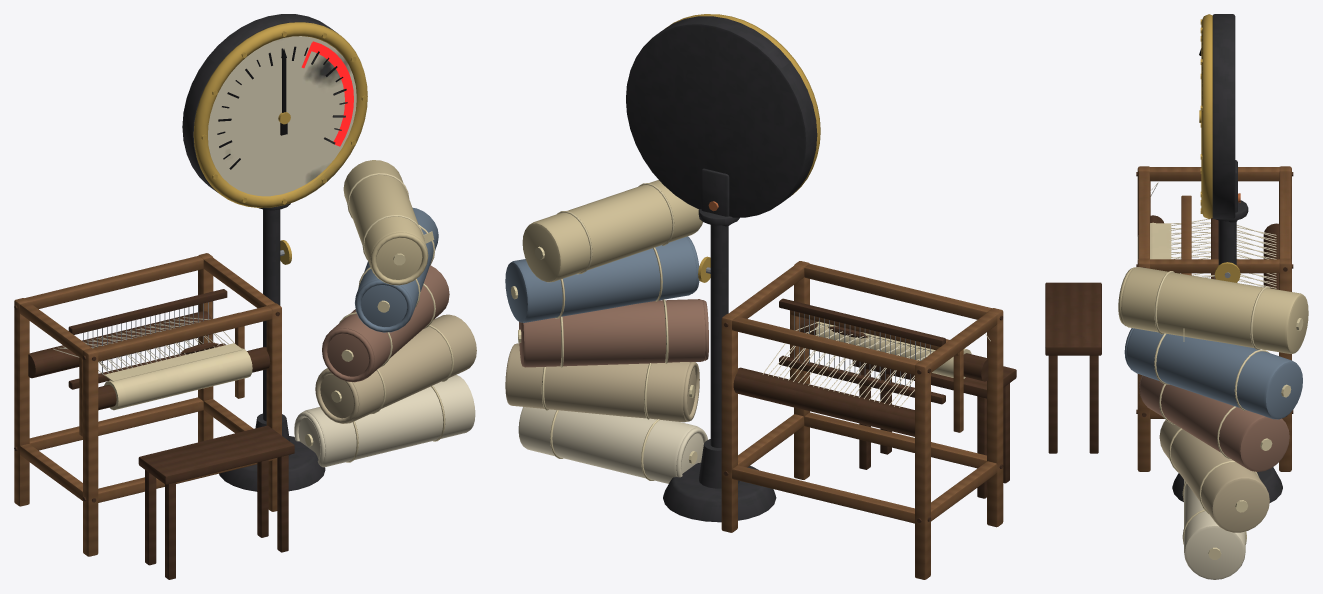
Rendered from demand_gauge.glb.
The picture shows the model from 3 angles, left to right: view 1: azimuth 30°, elevation 25°; view 2: azimuth 150°, elevation 25°; view 3: azimuth 270°, elevation 25°; orthographic projection. The views are drawn at different scales.
Parts seen in each view (by area): view 1: mrg_demand_gauge_wood, dialFace, mrg_demand_gauge_woodDark, mrg_bolt0_clothA, mrg_bolt1_clothB, mrg_dial_brass, mrg_bolt4_clothE, mrg_demand_gauge_canvas, mrg_bolt2_clothC, mrg_demand_gauge_iron, mrg_bolt3_clothD, dialCase (+4 smaller); view 2: mrg_demand_gauge_wood, dialCase, mrg_demand_gauge_woodDark, mrg_bolt2_clothC, mrg_bolt4_clothE, mrg_bolt1_clothB, mrg_bolt0_clothA, mrg_demand_gauge_iron, mrg_bolt3_clothD, mrg_demand_gauge_cloth, mrg_demand_gauge_canvas, mrg_demand_gauge_steel (+1 smaller); view 3: mrg_bolt4_clothE, mrg_bolt3_clothD, mrg_demand_gauge_wood, mrg_demand_gauge_woodDark, mrg_bolt2_clothC, mrg_bolt1_clothB, dialCase, mrg_bolt0_clothA, mrg_dial_brass, mrg_demand_gauge_iron, mrg_demand_gauge_cloth, mrg_demand_gauge_canvas (+3 smaller).
Part boxes in pixels (x1=…): mrg_demand_gauge_wood: x1=14, y1=253, x2=281, y2=556; dialFace: x1=208, y1=36, x2=356, y2=196; mrg_demand_gauge_woodDark: x1=14, y1=289, x2=294, y2=579; mrg_bolt0_clothA: x1=294, y1=375, x2=475, y2=467; mrg_bolt1_clothB: x1=315, y1=314, x2=476, y2=423; mrg_dial_brass: x1=193, y1=22, x2=367, y2=207; mrg_bolt4_clothE: x1=343, y1=160, x2=428, y2=285; mrg_demand_gauge_canvas: x1=104, y1=343, x2=252, y2=410; mrg_bolt2_clothC: x1=322, y1=265, x2=449, y2=382; mrg_demand_gauge_iron: x1=219, y1=203, x2=325, y2=491; mrg_bolt3_clothD: x1=355, y1=207, x2=438, y2=332; dialCase: x1=182, y1=14, x2=337, y2=192; mrg_demand_gauge_wood: x1=721, y1=261, x2=1003, y2=579; dialCase: x1=626, y1=16, x2=817, y2=217; mrg_demand_gauge_woodDark: x1=723, y1=298, x2=1016, y2=522; mrg_bolt2_clothC: x1=519, y1=299, x2=708, y2=367; mrg_bolt4_clothE: x1=522, y1=180, x2=702, y2=282; mrg_bolt1_clothB: x1=505, y1=343, x2=699, y2=422; mrg_bolt0_clothA: x1=518, y1=407, x2=707, y2=483; mrg_demand_gauge_iron: x1=663, y1=168, x2=776, y2=522; mrg_bolt3_clothD: x1=505, y1=236, x2=699, y2=322; mrg_demand_gauge_cloth: x1=762, y1=322, x2=990, y2=407; mrg_demand_gauge_canvas: x1=816, y1=321, x2=971, y2=378; mrg_demand_gauge_steel: x1=706, y1=267, x2=930, y2=388; mrg_bolt4_clothE: x1=1118, y1=267, x2=1308, y2=353; mrg_bolt3_clothD: x1=1124, y1=328, x2=1302, y2=419; mrg_demand_gauge_wood: x1=1137, y1=166, x2=1291, y2=471; mrg_demand_gauge_woodDark: x1=1045, y1=172, x2=1293, y2=453; mrg_bolt2_clothC: x1=1139, y1=375, x2=1289, y2=471; mrg_bolt1_clothB: x1=1159, y1=420, x2=1269, y2=532; dialCase: x1=1212, y1=14, x2=1235, y2=219; mrg_bolt0_clothA: x1=1184, y1=480, x2=1245, y2=579; mrg_dial_brass: x1=1200, y1=14, x2=1212, y2=218; mrg_demand_gauge_iron: x1=1172, y1=160, x2=1282, y2=502; mrg_demand_gauge_cloth: x1=1150, y1=182, x2=1276, y2=288; mrg_demand_gauge_canvas: x1=1137, y1=222, x2=1171, y2=259.
Size of the model in its own units: 1.97 by 2.01 by 1.03.
17 materials, 10 textured.
